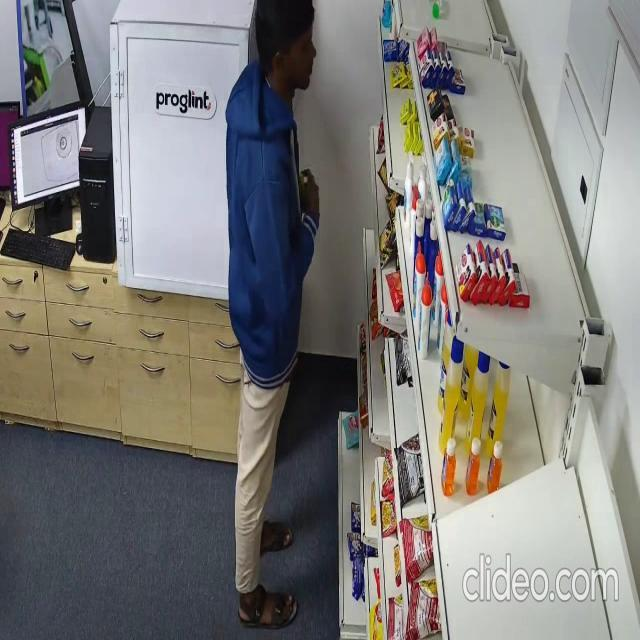Shoplifting: (222, 0, 325, 636)
